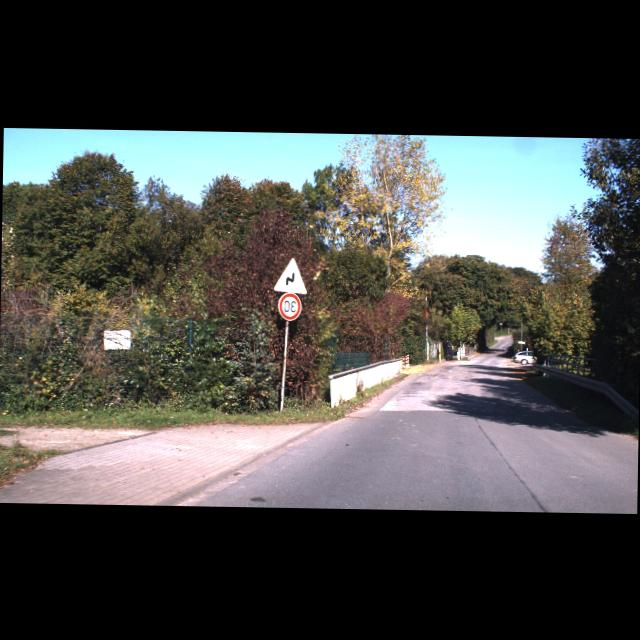danger: (274, 256, 308, 293)
prohibitory: (278, 292, 302, 320)
